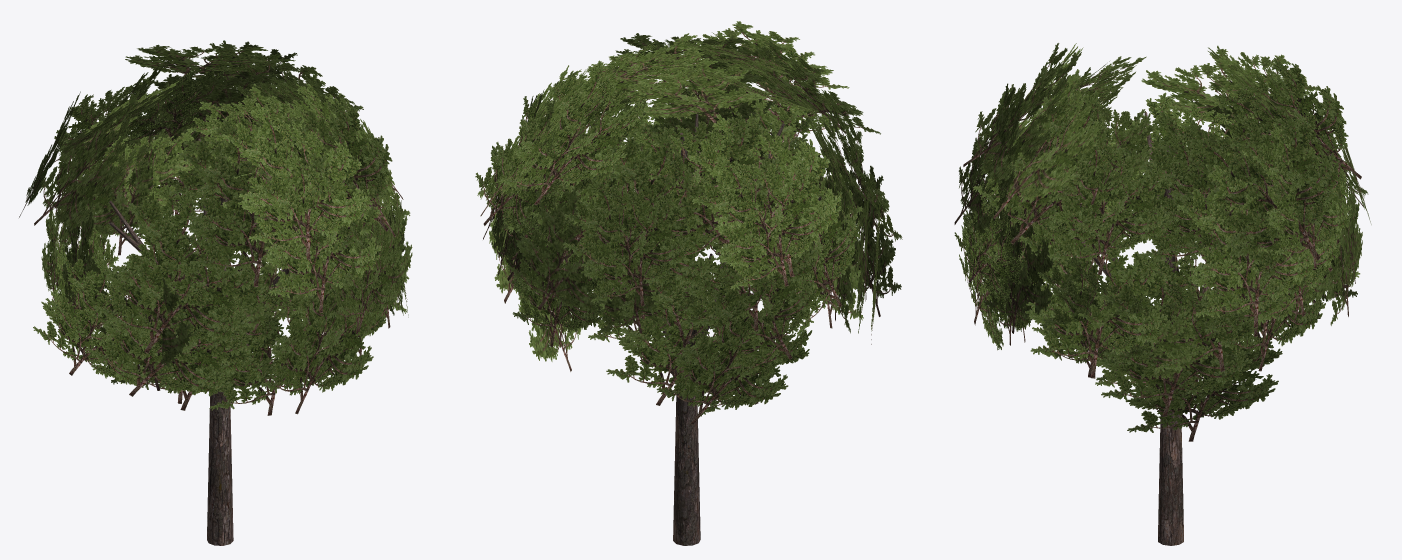
Rendered from tree_linden.obj.
The picture shows the model from 3 angles, left to right: view 1: azimuth 30°, elevation 25°; view 2: azimuth 150°, elevation 25°; view 3: azimuth 270°, elevation 25°; orthographic projection. The views are drawn at different scales.
Visible parts, largest first — view 1: Linden_Branches, Linden_Bark; view 2: Linden_Branches, Linden_Bark; view 3: Linden_Branches, Linden_Bark.
Part boxes in pixels (left/top/right/bottom): Linden_Branches: left=19, top=40, right=412, bottom=415; Linden_Bark: left=109, top=138, right=290, bottom=545; Linden_Branches: left=475, top=21, right=902, bottom=425; Linden_Bark: left=654, top=114, right=821, bottom=545; Linden_Branches: left=954, top=43, right=1371, bottom=441; Linden_Bark: left=1078, top=112, right=1216, bottom=545.
Size of the model in its own units: 7.83 by 9.64 by 7.72.
Materials: 2 (2 with a texture image).
